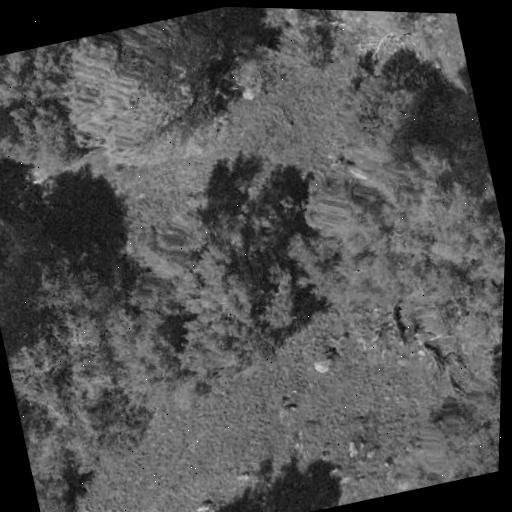tree-top: (283, 112, 509, 379), (56, 4, 249, 184), (1, 316, 170, 485), (136, 232, 294, 385), (36, 254, 175, 384), (324, 47, 466, 163), (0, 35, 109, 183), (401, 333, 502, 487)
